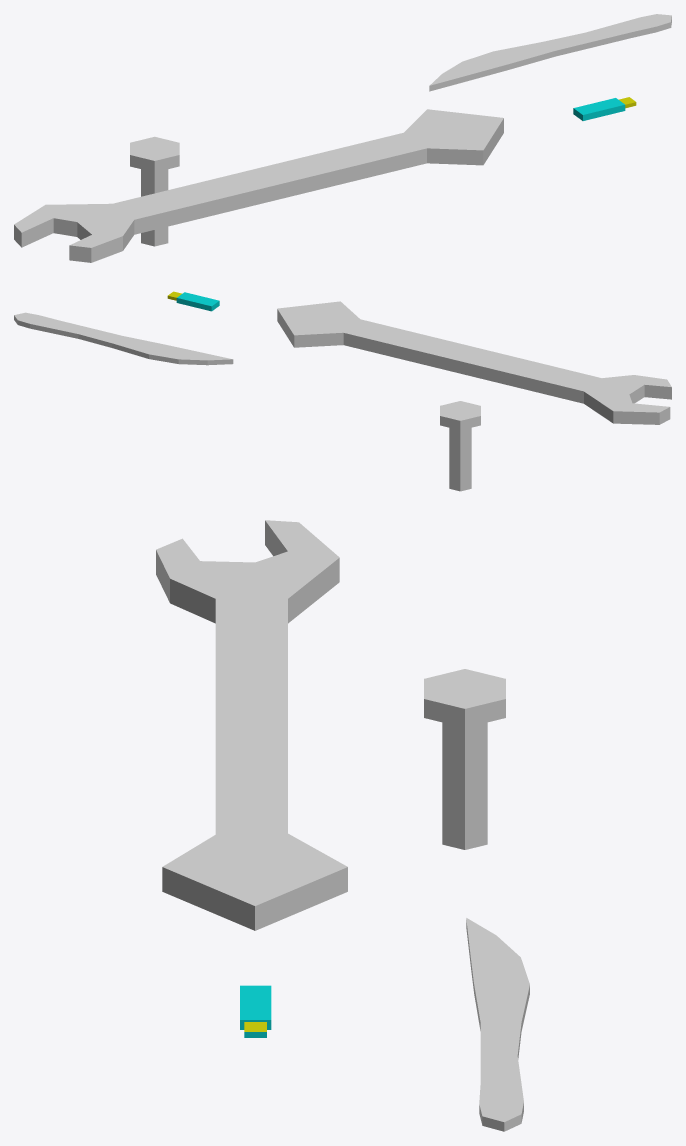
The model's file is SM_QuestItem1.fbx.
3 renders of one model, top to bottom at view 1: azimuth 30°, elevation 25°; view 2: azimuth 150°, elevation 25°; view 3: azimuth 270°, elevation 25°, orthographic. The views are drawn at different scales.
Visible parts, largest first — view 1: Wrench, SculptingTool, Bolt, FlashDrive; view 2: Wrench, SculptingTool, Bolt, FlashDrive; view 3: Wrench, Bolt, SculptingTool, FlashDrive.
Part boxes in pixels (bbox=[...]): Wrench: bbox=[14, 109, 503, 262]; SculptingTool: bbox=[429, 14, 671, 91]; Bolt: bbox=[130, 136, 179, 246]; FlashDrive: bbox=[573, 97, 636, 120]; Wrench: bbox=[277, 301, 671, 424]; SculptingTool: bbox=[14, 312, 233, 365]; Bolt: bbox=[440, 401, 480, 491]; FlashDrive: bbox=[167, 291, 219, 311]; Wrench: bbox=[156, 520, 347, 930]; Bolt: bbox=[424, 669, 505, 849]; SculptingTool: bbox=[466, 918, 529, 1131]; FlashDrive: bbox=[240, 985, 271, 1037].
Size of the model in its own units: 0.7592 by 0.0991 by 0.2062.
